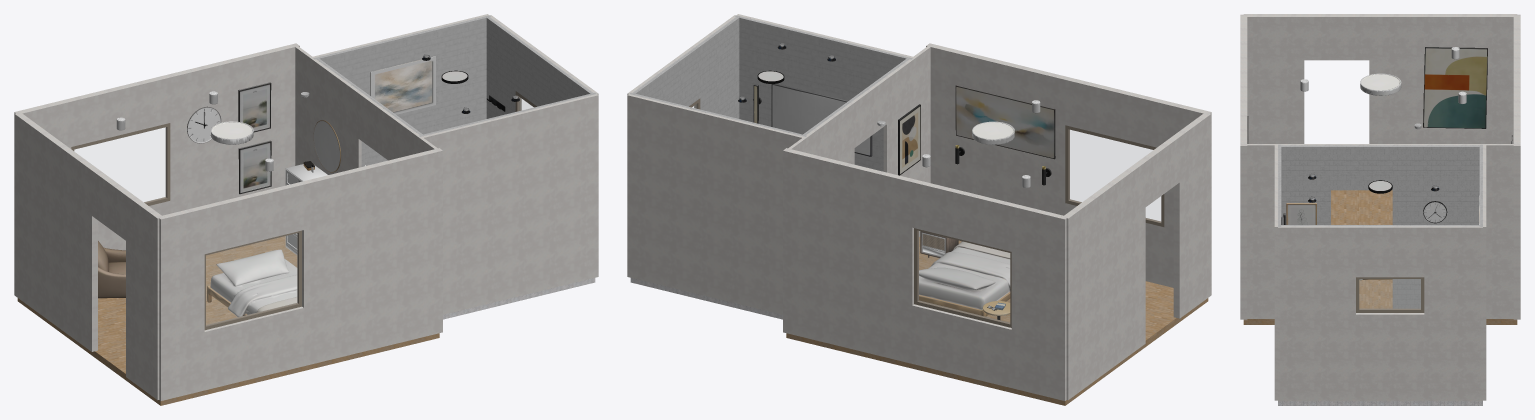
File: scene_web.glb
3 views of the same model, side by side, from view 1: azimuth 30°, elevation 25°; view 2: azimuth 150°, elevation 25°; view 3: azimuth 270°, elevation 25° (orthographic). The views are drawn at different scales.
Parts seen in each view (by area): view 1: geometry_0.003, geometry_0.039, geometry_0.006, geometry_0, geometry_0.036, geometry_0.004, glass.001, Mesh_0, geometry_0.040, geometry_0.009, glass, Mesh_0.001 (+12 smaller); view 2: geometry_0.001, geometry_0.037, geometry_0.006, geometry_0.002, geometry_0.038, geometry_0.004, glass, geometry_0.040, geometry_0.009, geometry_0.010, Mesh_0, glass.001 (+10 smaller); view 3: geometry_0.041, geometry_0.005, geometry_0.042, geometry_0.004, geometry_0.015, Mesh_0, glass.002, geometry_0, geometry_0.002, geometry_0.001, geometry_0.003, geometry_0.037 (+11 smaller).
Boxes of the visible parts, bbox=[...] form: geometry_0.003: bbox=[159, 149, 442, 400]; geometry_0.039: bbox=[420, 94, 598, 314]; geometry_0.006: bbox=[14, 113, 159, 399]; geometry_0: bbox=[16, 44, 299, 250]; geometry_0.036: bbox=[313, 15, 490, 165]; geometry_0.004: bbox=[295, 46, 437, 174]; glass.001: bbox=[206, 233, 297, 325]; Mesh_0: bbox=[17, 236, 439, 405]; geometry_0.040: bbox=[486, 17, 592, 118]; geometry_0.009: bbox=[207, 249, 297, 316]; glass: bbox=[74, 127, 165, 202]; Mesh_0.001: bbox=[370, 56, 435, 114]; geometry_0.001: bbox=[783, 149, 1066, 400]; geometry_0.037: bbox=[627, 94, 805, 314]; geometry_0.006: bbox=[1066, 113, 1211, 400]; geometry_0.002: bbox=[926, 44, 1209, 287]; geometry_0.038: bbox=[735, 15, 912, 170]; geometry_0.004: bbox=[788, 46, 930, 236]; glass: bbox=[918, 231, 1009, 322]; geometry_0.040: bbox=[633, 17, 739, 118]; geometry_0.009: bbox=[919, 241, 1010, 316]; geometry_0.010: bbox=[955, 85, 1055, 159]; Mesh_0: bbox=[786, 236, 1208, 405]; glass.001: bbox=[1069, 130, 1160, 221]; geometry_0.041: bbox=[1278, 226, 1482, 401]; geometry_0.005: bbox=[1247, 15, 1513, 143]; geometry_0.042: bbox=[1281, 145, 1479, 308]; geometry_0.004: bbox=[1247, 144, 1513, 318]; geometry_0.015: bbox=[1423, 47, 1487, 128]; Mesh_0: bbox=[1243, 190, 1517, 324]; glass.002: bbox=[1359, 279, 1420, 308]; geometry_0: bbox=[1513, 14, 1517, 319]; geometry_0.002: bbox=[1243, 14, 1247, 319]; geometry_0.001: bbox=[1517, 14, 1520, 319]; geometry_0.003: bbox=[1240, 14, 1243, 319]; geometry_0.037: bbox=[1483, 144, 1486, 400].
Size of the model in its own units: 7.4 by 2.9 by 4.1.
67 materials, 56 textured.
